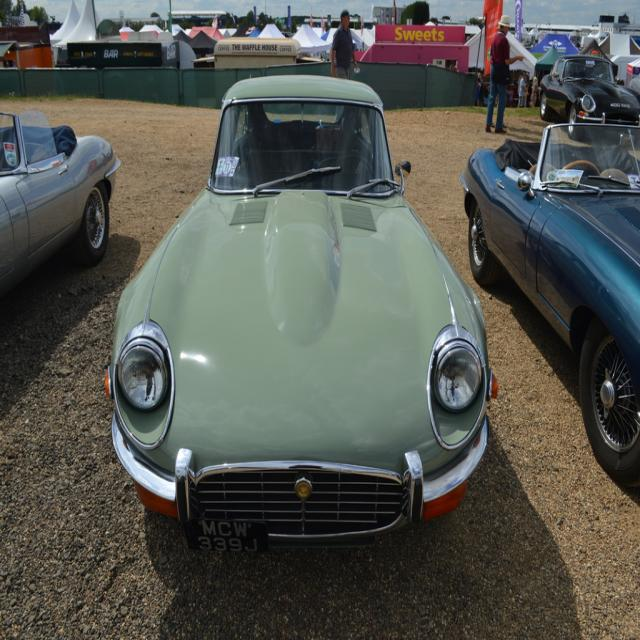car: (103, 74, 498, 552)
